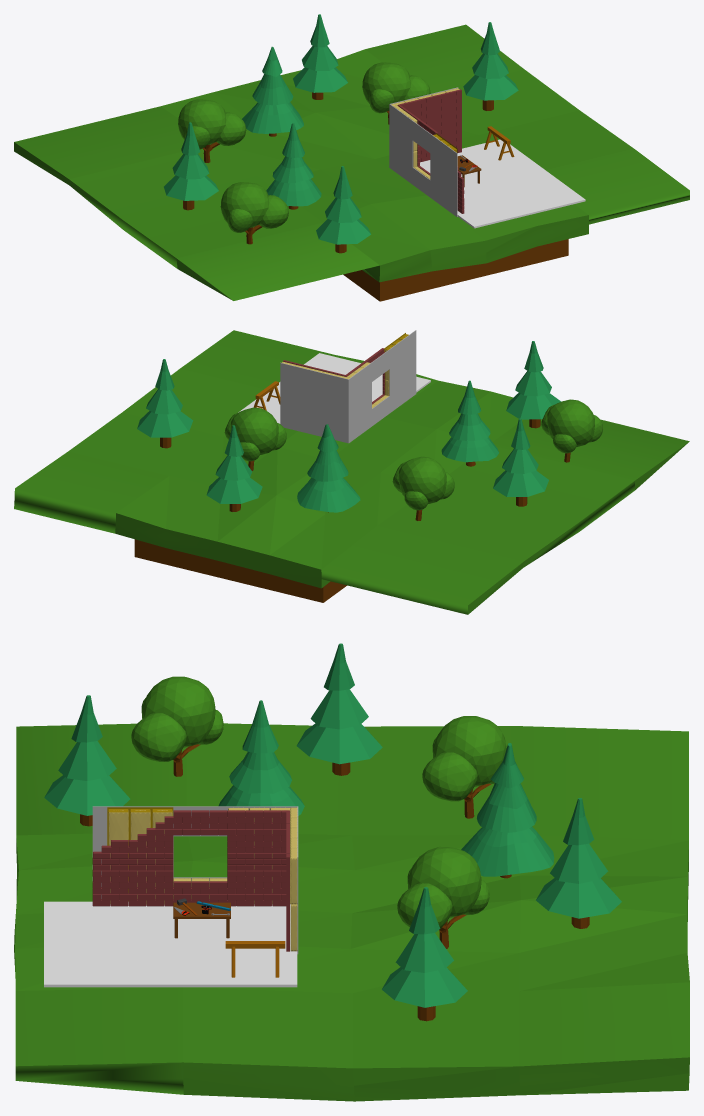
3 renders of one model, top to bottom at view 1: azimuth 30°, elevation 25°; view 2: azimuth 150°, elevation 25°; view 3: azimuth 270°, elevation 25°, orthographic. The views are drawn at different scales.
Parts seen in each view (by area): view 1: Ground, Cube, Cube.075, Cylinder.002, Icosphere.002, Icosphere.001, Cylinder.001, Icosphere.003, Cylinder.008, Cylinder.004, Cylinder, Cylinder.007; view 2: Ground, Cube.088, Cube.075, Cylinder.002, Cylinder.001, Icosphere.001, Icosphere.002, Cylinder.008, Cylinder.004, Cylinder.007, Icosphere.003, Cylinder (+1 smaller); view 3: Ground, Cube, Cylinder.002, Icosphere.002, Icosphere.001, Icosphere.003, Cylinder.008, Cylinder.004, Cylinder.007, Cylinder, Cylinder.001, Cube.002 (+12 smaller).
Part boxes in pixels (<box>): Ground: <box>14,24,689,301</box>; Cube: <box>420,139,585,228</box>; Cube.075: <box>389,104,457,216</box>; Cylinder.002: <box>242,46,303,136</box>; Icosphere.002: <box>220,182,288,244</box>; Icosphere.001: <box>178,99,246,162</box>; Cylinder.001: <box>266,123,321,209</box>; Icosphere.003: <box>362,62,430,124</box>; Cylinder.008: <box>463,22,518,110</box>; Cylinder.004: <box>164,122,218,210</box>; Cylinder: <box>316,166,370,253</box>; Cylinder.007: <box>293,14,347,99</box>; Ground: <box>14,330,689,614</box>; Cube.088: <box>280,362,349,443</box>; Cube.075: <box>349,330,416,442</box>; Cylinder.002: <box>297,424,360,512</box>; Cylinder.001: <box>441,380,498,466</box>; Icosphere.001: <box>392,456,454,520</box>; Icosphere.002: <box>541,399,602,462</box>; Cylinder.008: <box>137,359,193,448</box>; Cylinder.004: <box>493,418,548,506</box>; Cylinder.007: <box>206,425,262,511</box>; Icosphere.003: <box>224,407,286,470</box>; Cylinder: <box>506,341,560,428</box>; Ground: <box>14,723,689,1101</box>; Cube: <box>44,901,297,987</box>; Cylinder.002: <box>461,743,554,878</box>; Icosphere.002: <box>131,676,223,776</box>; Icosphere.001: <box>422,716,506,818</box>; Icosphere.003: <box>397,846,489,948</box>; Cylinder.008: <box>382,887,467,1021</box>; Cylinder.004: <box>296,643,382,775</box>; Cylinder.007: <box>536,798,621,928</box>; Cylinder: <box>44,695,130,826</box>; Cylinder.001: <box>218,700,304,815</box>; Cube.002: <box>101,881,281,900</box>.
Bounding box in the file's own units: 90.84 × 25.18 × 76.04.
